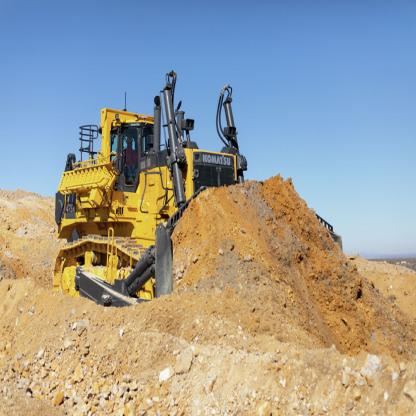bull_dozer/loader/grader: (52, 63, 295, 349)
